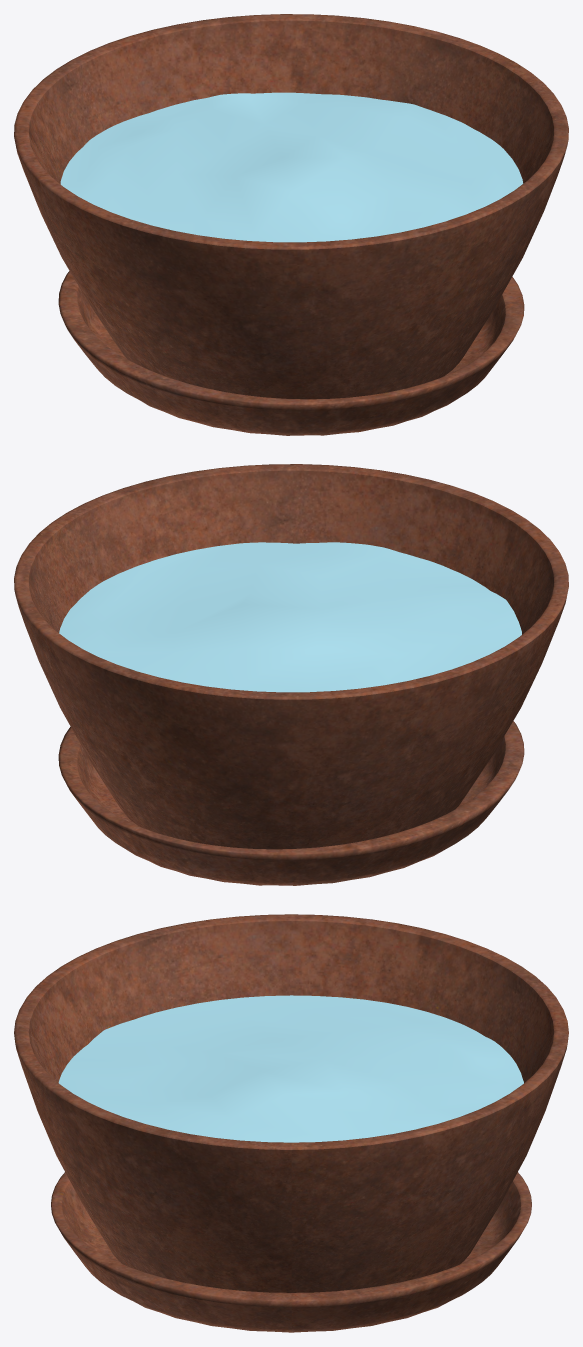
3 renders of one model, top to bottom at view 1: azimuth 30°, elevation 25°; view 2: azimuth 150°, elevation 25°; view 3: azimuth 270°, elevation 25°, orthographic.
Parts seen in each view (by area): view 1: SY-花盆; view 2: SY-花盆; view 3: SY-花盆.
Part boxes in pixels (x1,y1,x2,y2): SY-花盆: [14, 14, 568, 435]; SY-花盆: [14, 464, 568, 885]; SY-花盆: [14, 914, 568, 1332].
Size of the model in its own units: 0.266 by 0.266 by 0.1189.
